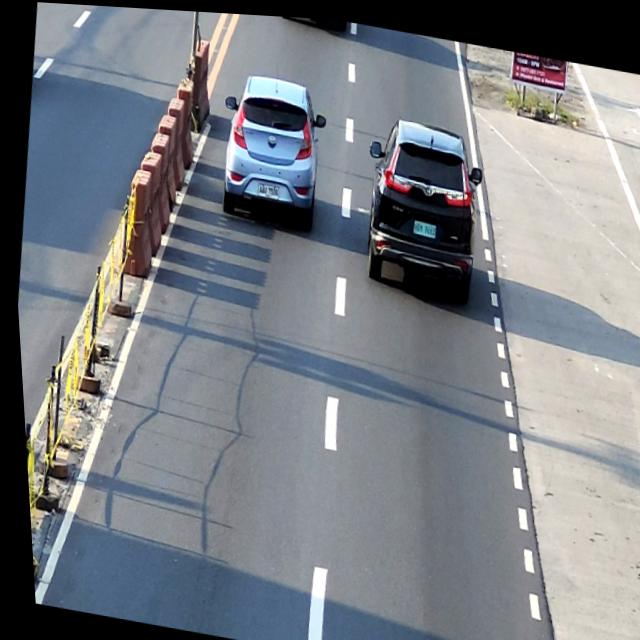Car: (349, 106, 492, 303), (208, 66, 334, 232)
License-Plate: (409, 215, 434, 234), (254, 180, 277, 196)
